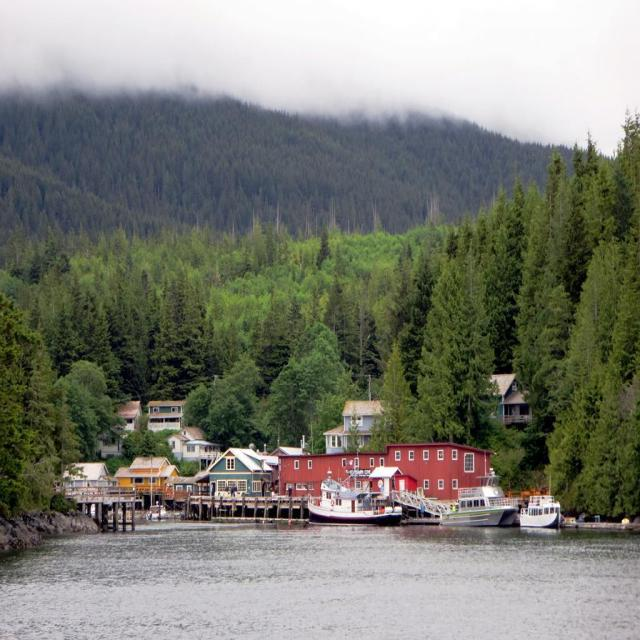Boat: (300, 468, 409, 534), (440, 466, 522, 532), (521, 475, 563, 528)
